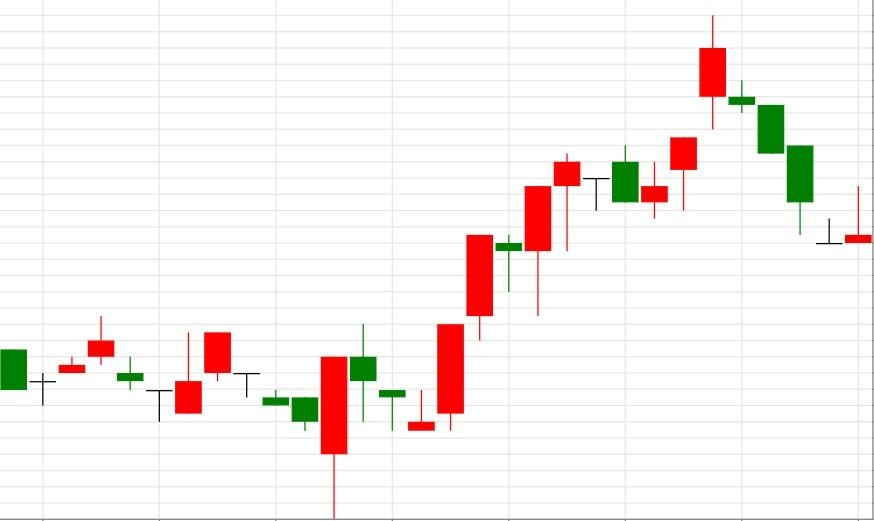bullish_engulfing_rise: (203, 331, 348, 519)
hanging_man_fall: (407, 154, 581, 432)
